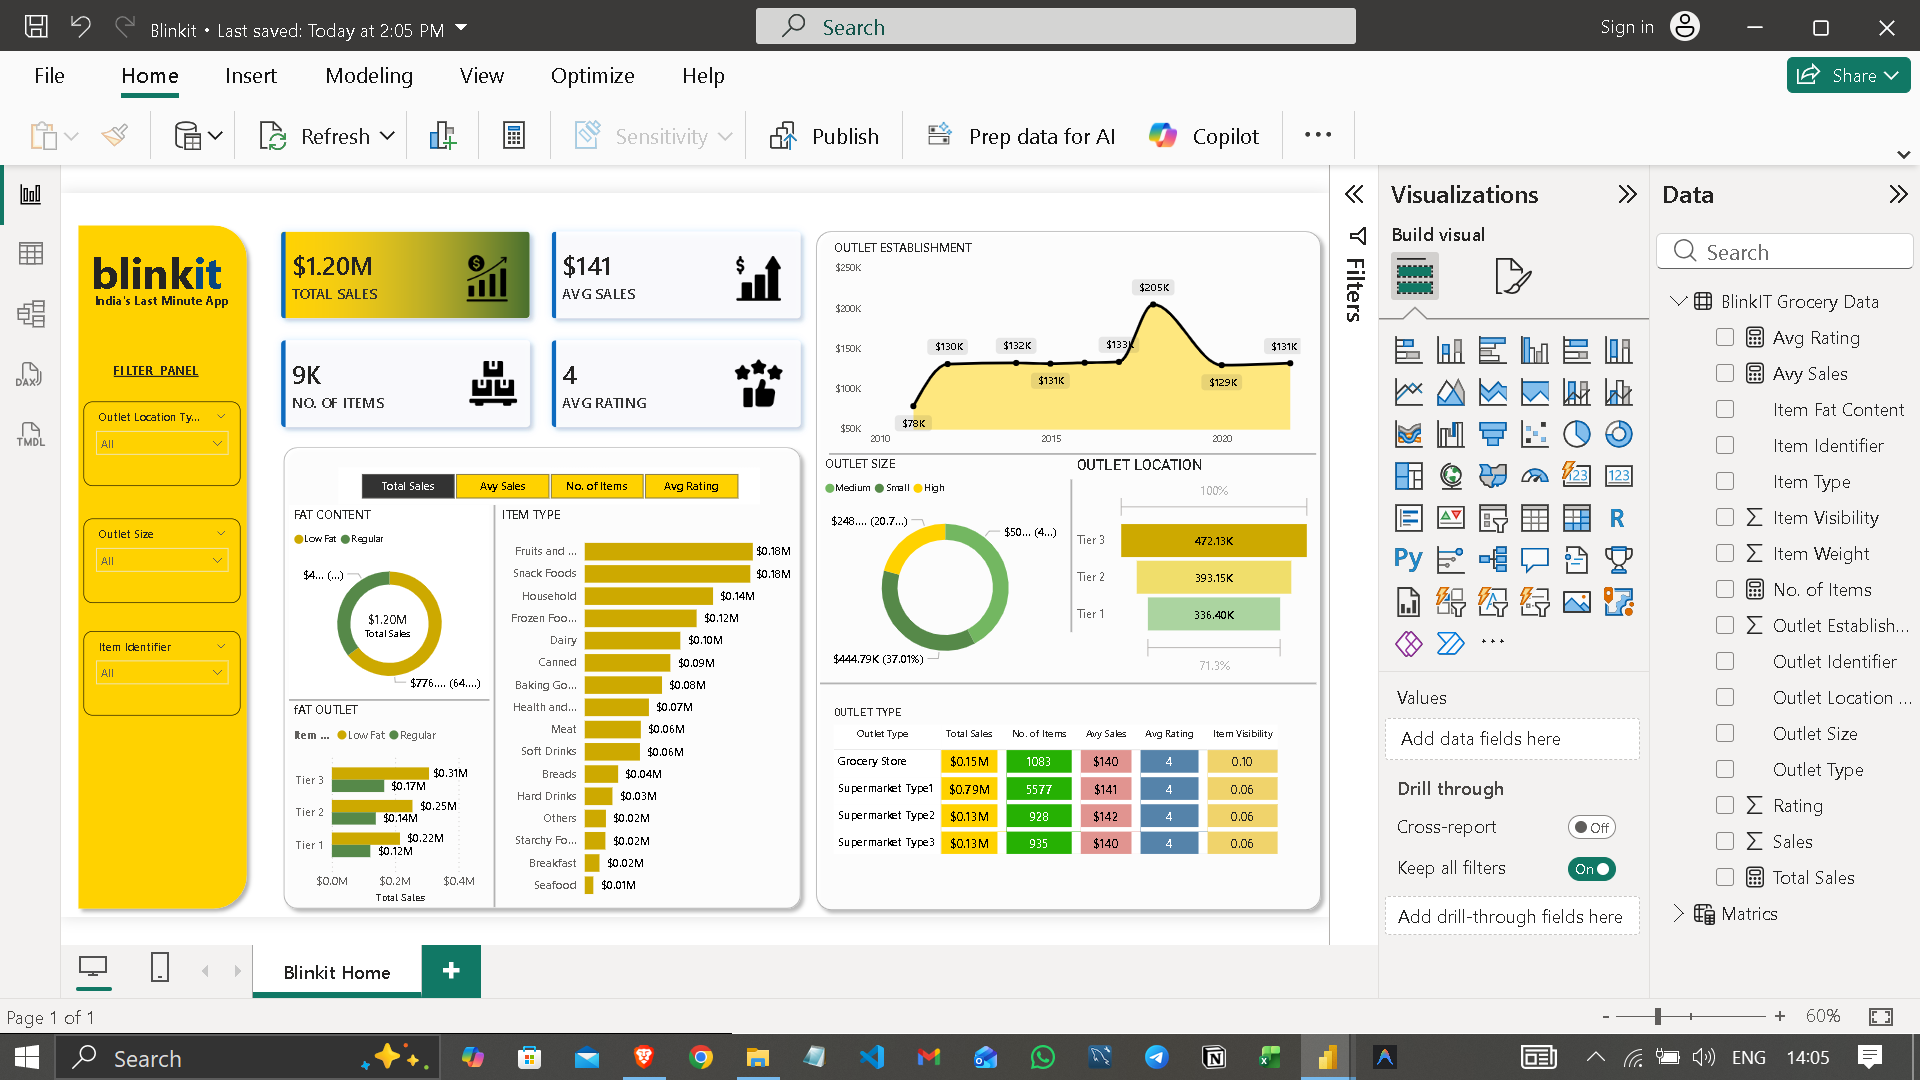

Layout of this report page (visuals, bound fields, positions):
{"tool":"powerbi","page":{"name":"Blinkit Home","canvas":[1400,800],"ordinal":0},"visuals":[{"type":"shape","box":[10.2,27.2,204.3,772.8],"z":0},{"type":"textbox","box":[28.9,49.4,166.8,103.8],"z":1000},{"type":"textbox","box":[28.9,102.1,166.8,37.4],"z":2000},{"type":"cardVisual","fields":{"Data":["BlinkIT Grocery Data.Total Sales","BlinkIT Grocery Data.Avy Sales","BlinkIT Grocery Data.No. of Items","BlinkIT Grocery Data.Avg Rating"]},"box":[214.5,13.6,633.2,274],"z":3000},{"type":"shape","box":[236.6,272.3,588.9,527.7],"z":4000},{"type":"donutChart","title":"FAT CONTENT","fields":{"Y":["BlinkIT Grocery Data.Total Sales"],"Category":["BlinkIT Grocery Data.Item Fat Content"]},"box":[251.9,343.8,221.3,216.2],"z":5000},{"type":"slicer","fields":{"Values":["Matrics.Matrics"]},"box":[306.4,303,465,40.9],"z":6000},{"type":"cardVisual","fields":{"Data":["BlinkIT Grocery Data.Total Sales"]},"box":[274,440.9,175.3,73.2],"z":7000},{"type":"clusteredBarChart","title":"fAT OUTLET","fields":{"Y":["BlinkIT Grocery Data.Total Sales"],"Category":["BlinkIT Grocery Data.Outlet Location Type"],"Series":["BlinkIT Grocery Data.Item Fat Content"]},"box":[251.9,560,219.6,228.1],"z":8000},{"type":"shape","box":[251.9,531.1,221.3,56.2],"z":9000},{"type":"shape","box":[417,343.8,122.6,444.3],"z":10000},{"type":"barChart","title":"ITEM TYPE","fields":{"Y":["BlinkIT Grocery Data.Total Sales"],"Category":["BlinkIT Grocery Data.Item Type"]},"box":[481.7,343.8,330.2,444.3],"z":11000},{"type":"shape","box":[825.5,32.3,575.3,767.7],"z":12000},{"type":"lineChart","title":"OUTLET ESTABLISHMENT","fields":{"Category":["BlinkIT Grocery Data.Outlet Establishment Year"],"Y":["BlinkIT Grocery Data.Total Sales"]},"box":[847.7,49.4,526,238.3],"z":13000},{"type":"shape","box":[847.7,260.4,537.9,56.2],"z":14000},{"type":"donutChart","title":"OUTLET SIZE","fields":{"Y":["BlinkIT Grocery Data.Total Sales"],"Category":["BlinkIT Grocery Data.Outlet Size"]},"box":[837.4,287.7,275.7,248.5],"z":15000},{"type":"shape","box":[1050.2,316.6,131.1,168.5],"z":16000},{"type":"funnel","title":"OUTLET LOCATION","fields":{"Category":["BlinkIT Grocery Data.Outlet Location Type"],"Y":["Sum(BlinkIT Grocery Data.Sales)"]},"box":[1116.6,289.4,268.9,246.8],"z":17000},{"type":"shape","box":[837.4,514,548.1,56.2],"z":18000},{"type":"pivotTable","title":"OUTLET TYPE","fields":{"Rows":["BlinkIT Grocery Data.Outlet Type"],"Values":["BlinkIT Grocery Data.Total Sales","BlinkIT Grocery Data.No. of Items","BlinkIT Grocery Data.Avy Sales","BlinkIT Grocery Data.Avg Rating","Avg(BlinkIT Grocery Data.Item Visibility)"]},"box":[847.7,566.8,553.2,180.4],"z":19000},{"type":"slicer","fields":{"Values":["BlinkIT Grocery Data.Outlet Location Type"]},"box":[25.5,229.8,173.6,93.6],"z":20000},{"type":"slicer","fields":{"Values":["BlinkIT Grocery Data.Outlet Size"]},"box":[25.5,359.1,173.6,93.6],"z":21000},{"type":"slicer","fields":{"Values":["BlinkIT Grocery Data.Item Identifier"]},"box":[25.5,483.4,173.6,93.6],"z":22000},{"type":"textbox","box":[52.8,180.4,112.3,28.9],"z":23000},{"type":"image","box":[432.3,68.1,76.6,52.8],"z":24000},{"type":"image","box":[731.9,68.1,76.6,52.8],"z":25000},{"type":"image","box":[731.9,183.8,76.6,52.8],"z":26000},{"type":"image","box":[439.1,183.8,76.6,52.8],"z":27000}]}

Visuals, with their boxes on the page's 1400x800 design canvas (x1, y1, x2, y2). These are canvas units, not pixel positions in the 1920x1080 screenshot, which may show the page scaled, cropped or inside an application window:
shape: <bbox>10, 27, 214, 800</bbox>
textbox: <bbox>29, 49, 196, 153</bbox>
textbox: <bbox>29, 102, 196, 140</bbox>
cardVisual - BlinkIT Grocery Data.Total Sales x BlinkIT Grocery Data.Avy Sales: <bbox>214, 14, 848, 288</bbox>
shape: <bbox>237, 272, 826, 800</bbox>
"FAT CONTENT" donutChart: <bbox>252, 344, 473, 560</bbox>
slicer - Matrics.Matrics: <bbox>306, 303, 771, 344</bbox>
cardVisual - BlinkIT Grocery Data.Total Sales: <bbox>274, 441, 449, 514</bbox>
"fAT OUTLET" clusteredBarChart: <bbox>252, 560, 472, 788</bbox>
shape: <bbox>252, 531, 473, 587</bbox>
shape: <bbox>417, 344, 540, 788</bbox>
"ITEM TYPE" barChart: <bbox>482, 344, 812, 788</bbox>
shape: <bbox>826, 32, 1401, 800</bbox>
"OUTLET ESTABLISHMENT" lineChart: <bbox>848, 49, 1374, 288</bbox>
shape: <bbox>848, 260, 1386, 317</bbox>
"OUTLET SIZE" donutChart: <bbox>837, 288, 1113, 536</bbox>
shape: <bbox>1050, 317, 1181, 485</bbox>
"OUTLET LOCATION" funnel: <bbox>1117, 289, 1386, 536</bbox>
shape: <bbox>837, 514, 1386, 570</bbox>
"OUTLET TYPE" pivotTable: <bbox>848, 567, 1401, 747</bbox>
slicer - BlinkIT Grocery Data.Outlet Location Type: <bbox>26, 230, 199, 323</bbox>
slicer - BlinkIT Grocery Data.Outlet Size: <bbox>26, 359, 199, 453</bbox>
slicer - BlinkIT Grocery Data.Item Identifier: <bbox>26, 483, 199, 577</bbox>
textbox: <bbox>53, 180, 165, 209</bbox>
image: <bbox>432, 68, 509, 121</bbox>
image: <bbox>732, 68, 808, 121</bbox>
image: <bbox>732, 184, 808, 237</bbox>
image: <bbox>439, 184, 516, 237</bbox>
